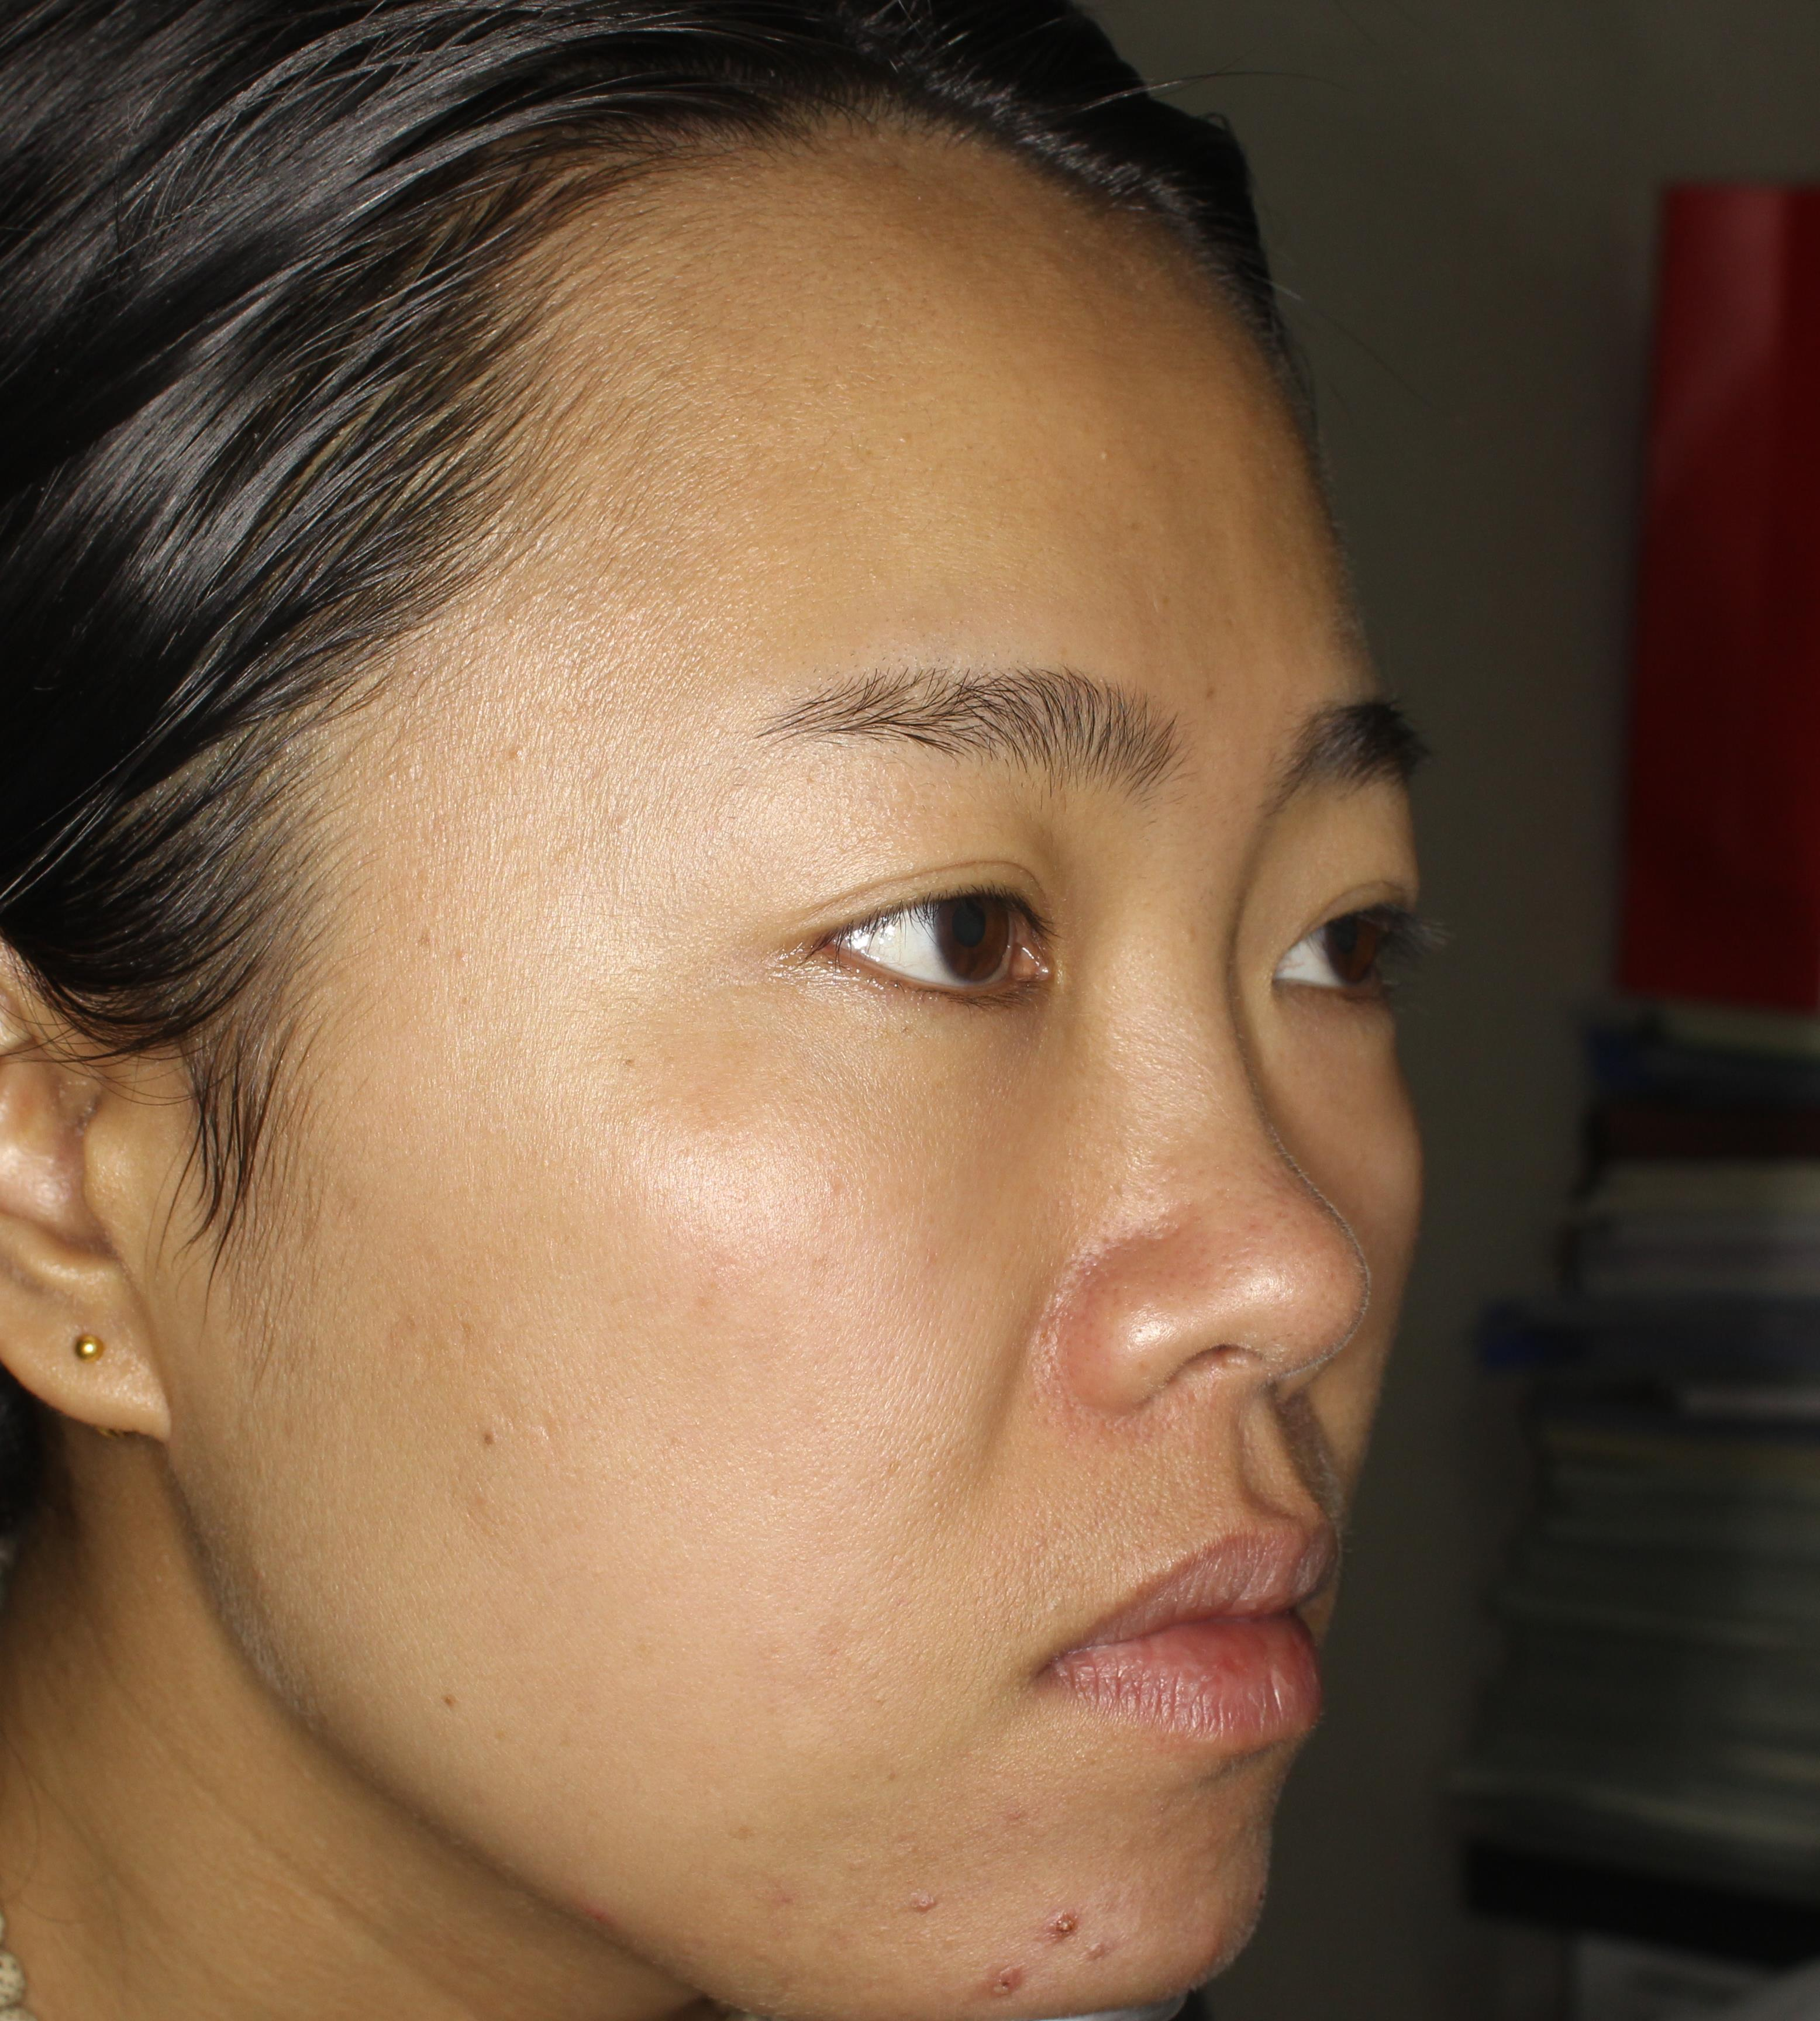fore: (1179, 1907, 1256, 1996), (982, 1935, 1031, 2010)
